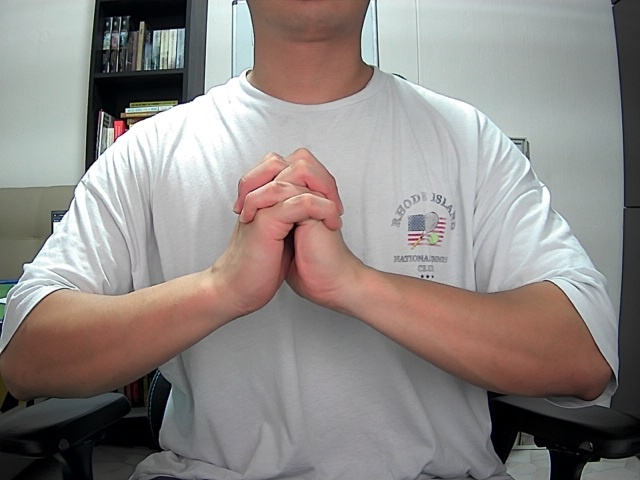Serpent: (210, 129, 375, 329)
